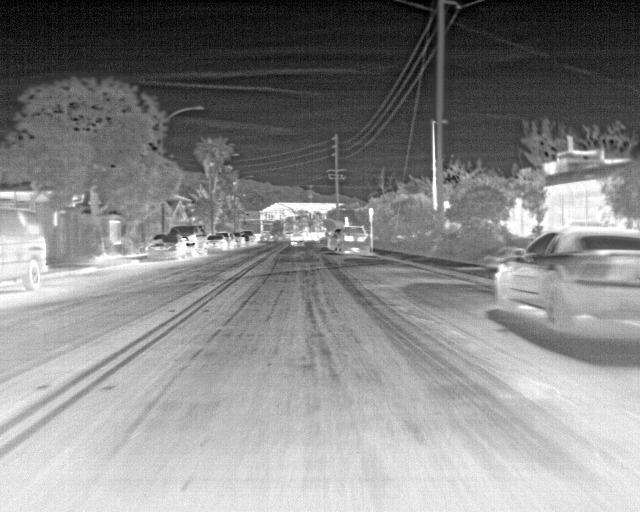car: (493, 227, 639, 343), (0, 206, 52, 293), (169, 223, 207, 256), (145, 233, 184, 260), (336, 225, 370, 255), (325, 226, 342, 250), (206, 234, 226, 252), (220, 230, 235, 247), (239, 230, 255, 245), (290, 232, 306, 246), (246, 229, 261, 243), (233, 232, 245, 247)
